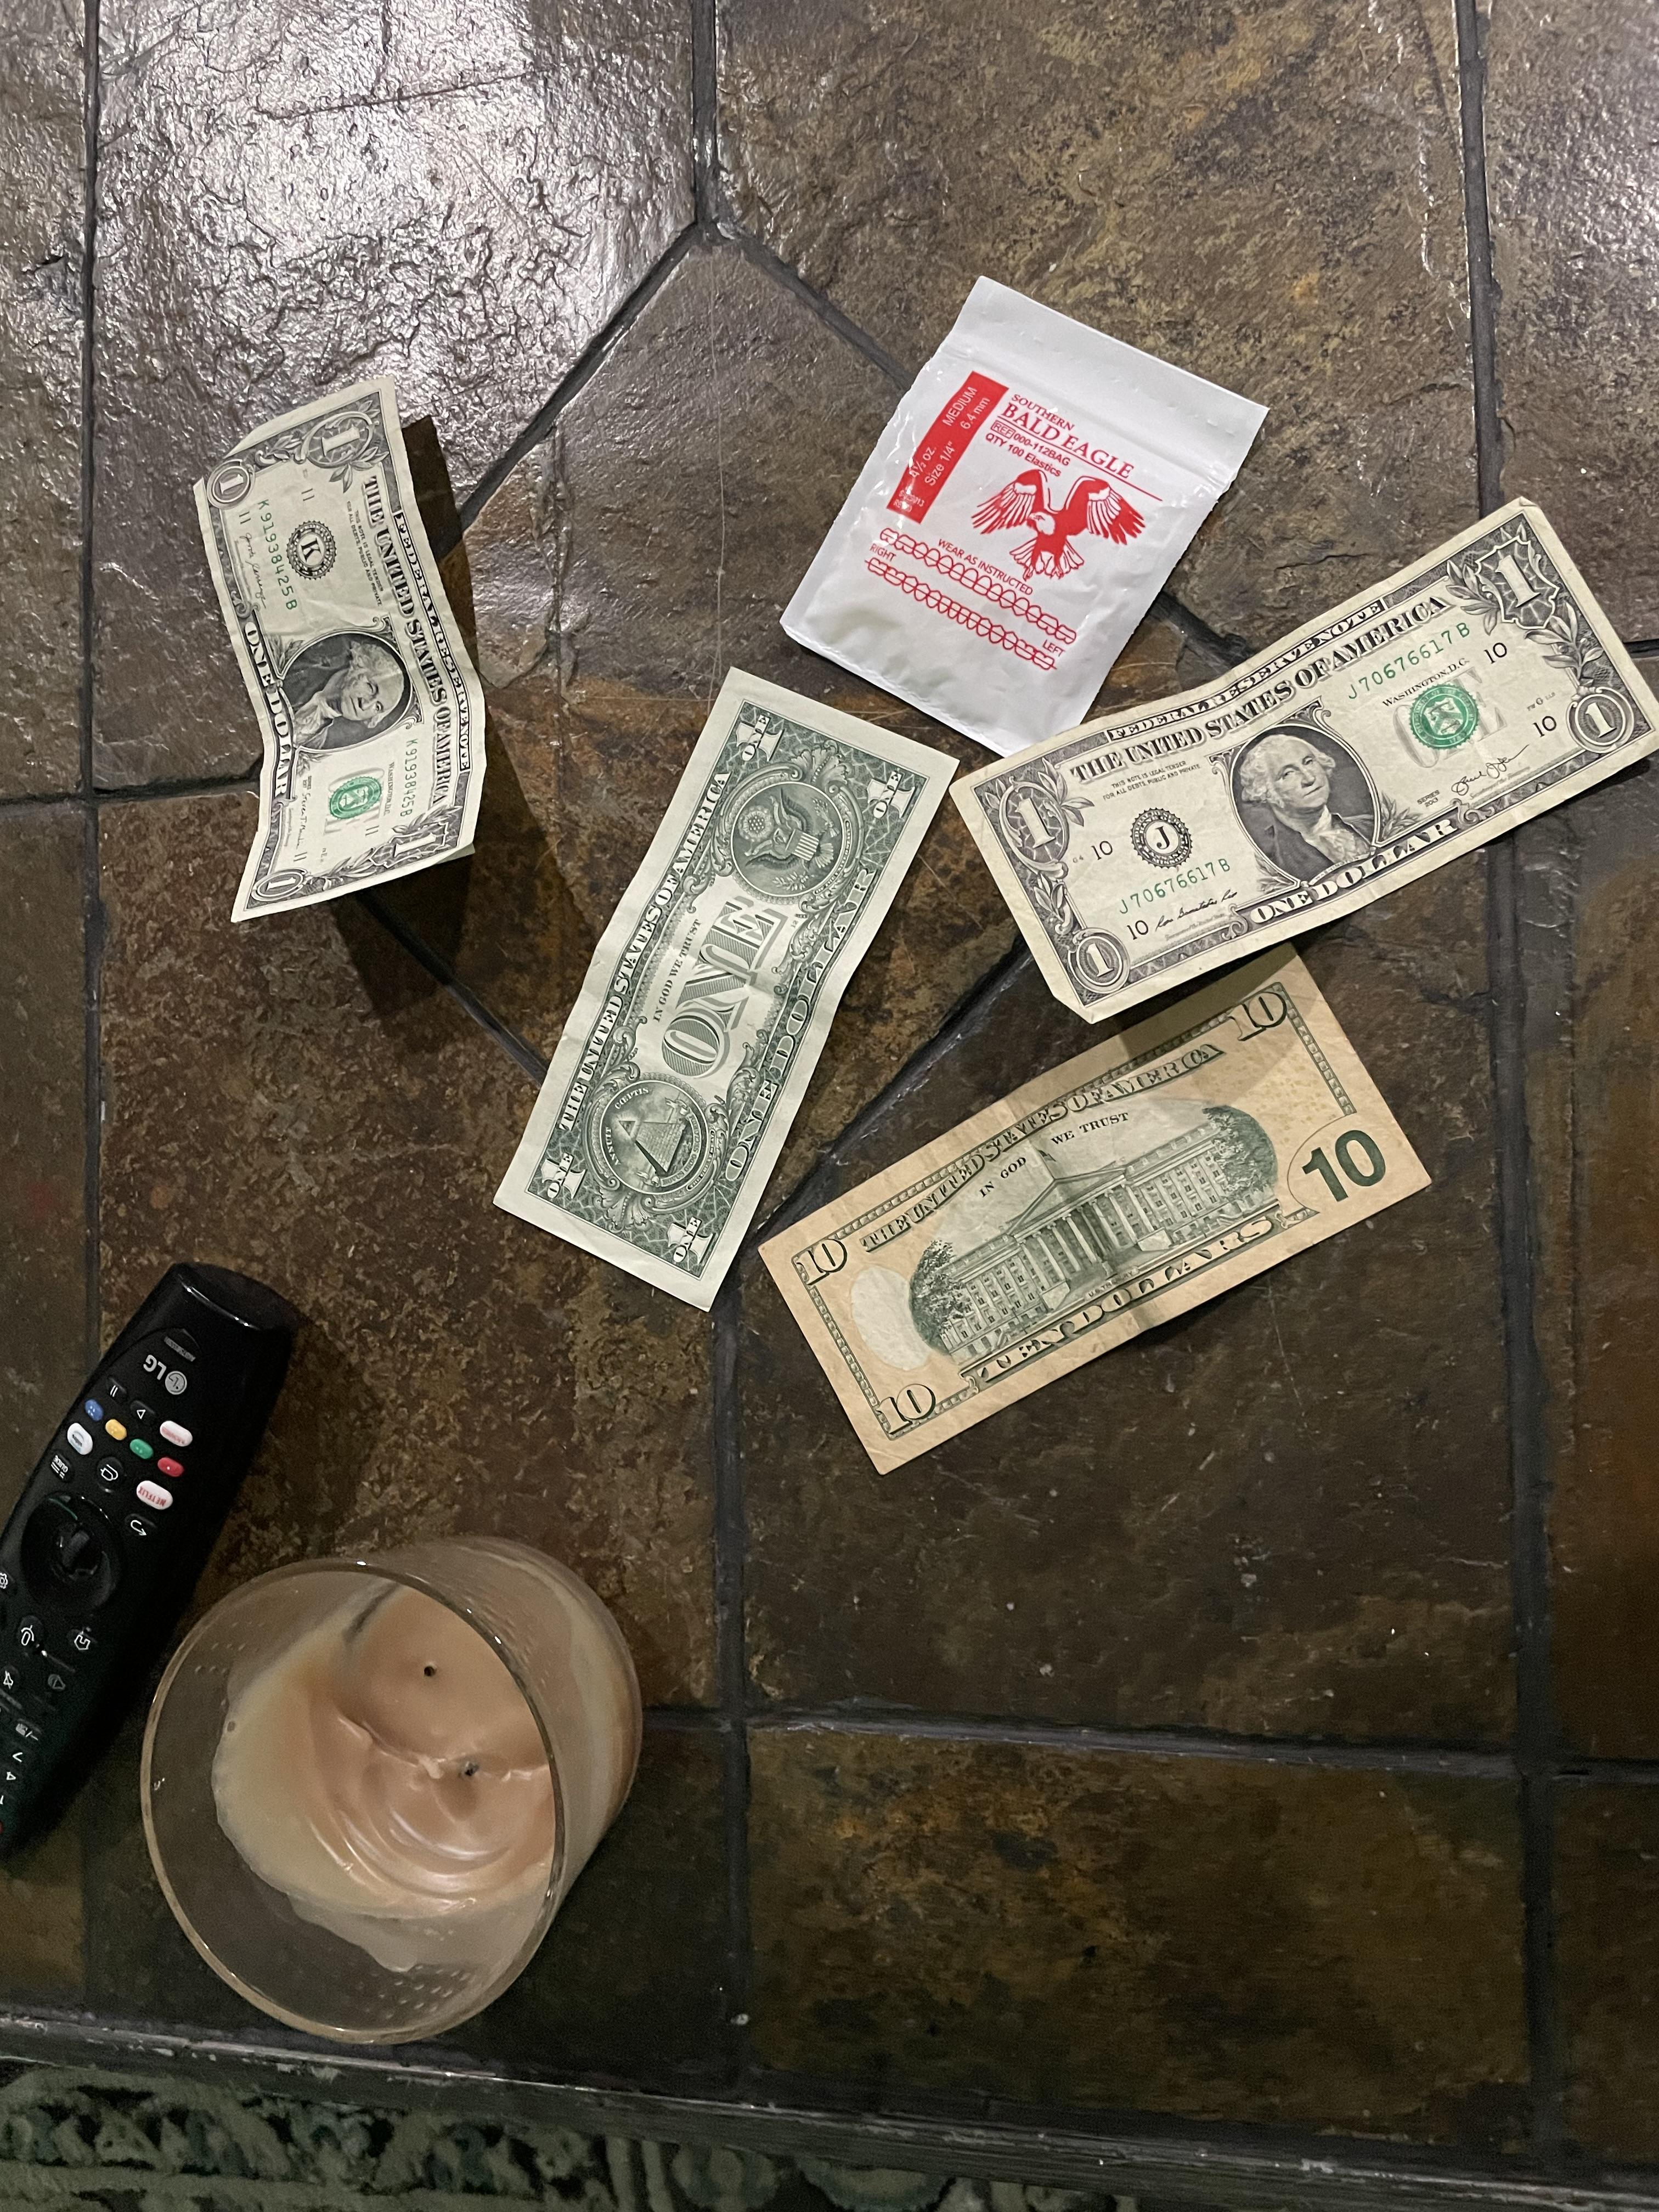OneBill: (951, 489, 1643, 1026), (490, 674, 986, 1320), (197, 355, 500, 941)
TenBill: (746, 941, 1441, 1472)
